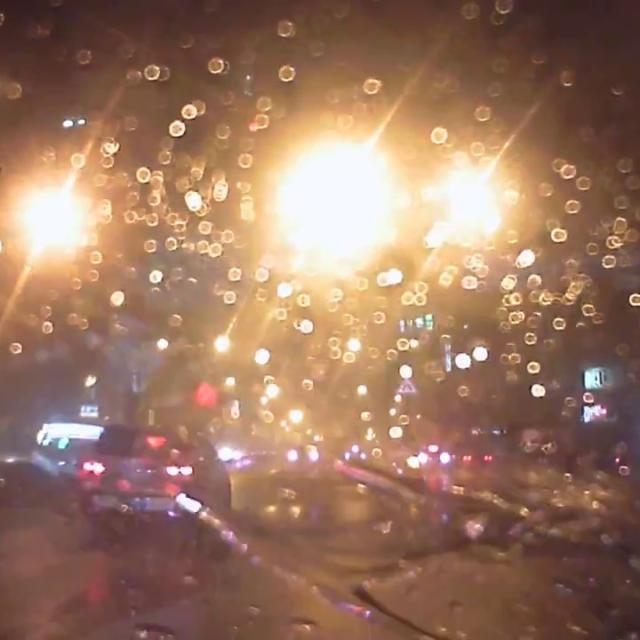Car: (73, 415, 228, 543), (457, 440, 494, 468)
